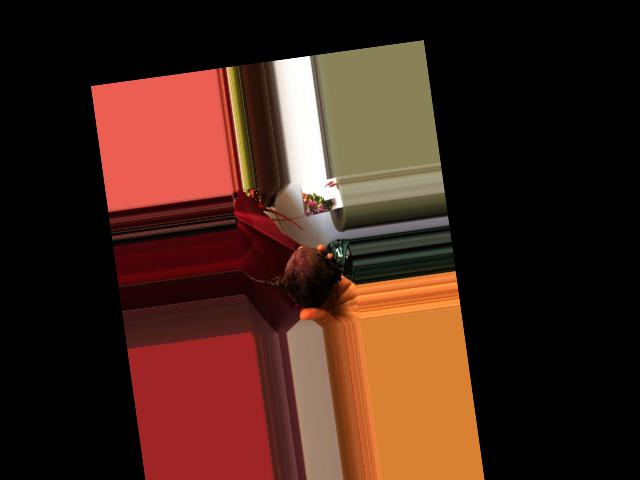beet: (240, 239, 358, 316)
